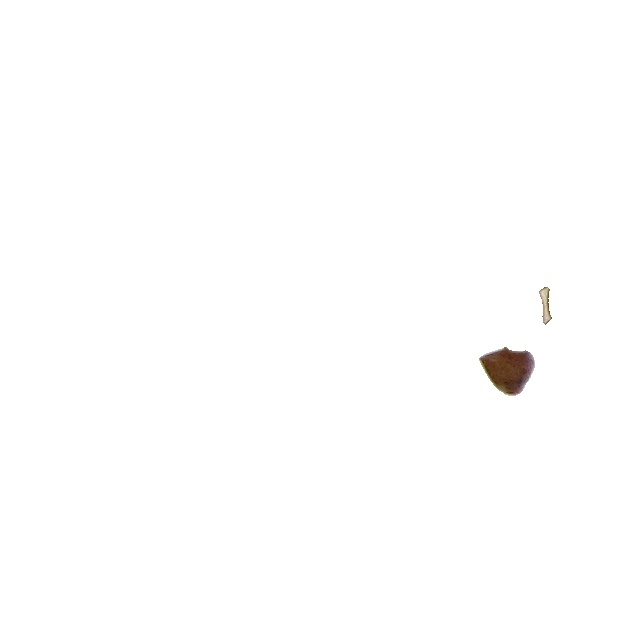buckwheat: (478, 346, 536, 397)
other: (538, 286, 553, 326)
